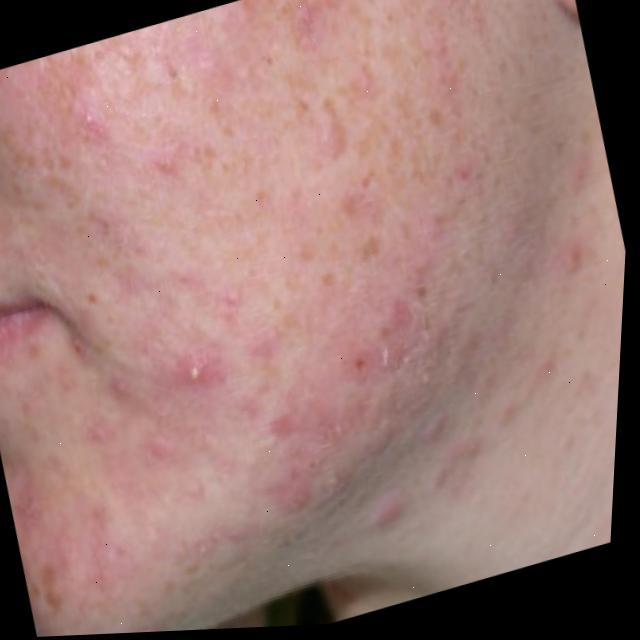Acne: (0, 50, 532, 637)
